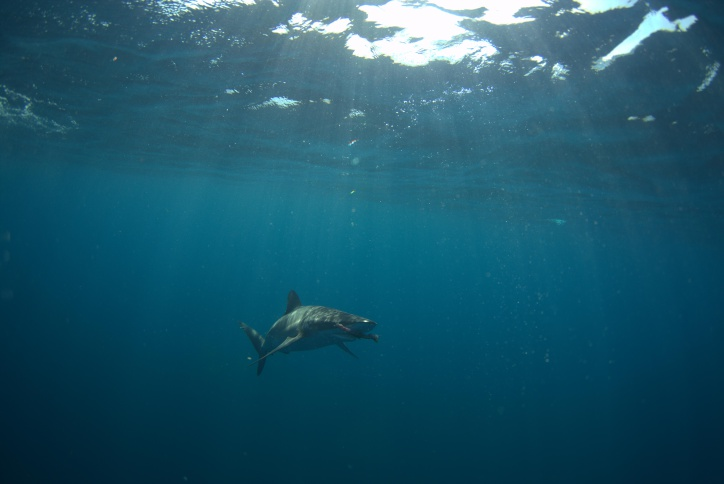Sedoso: (202, 285, 395, 376)
